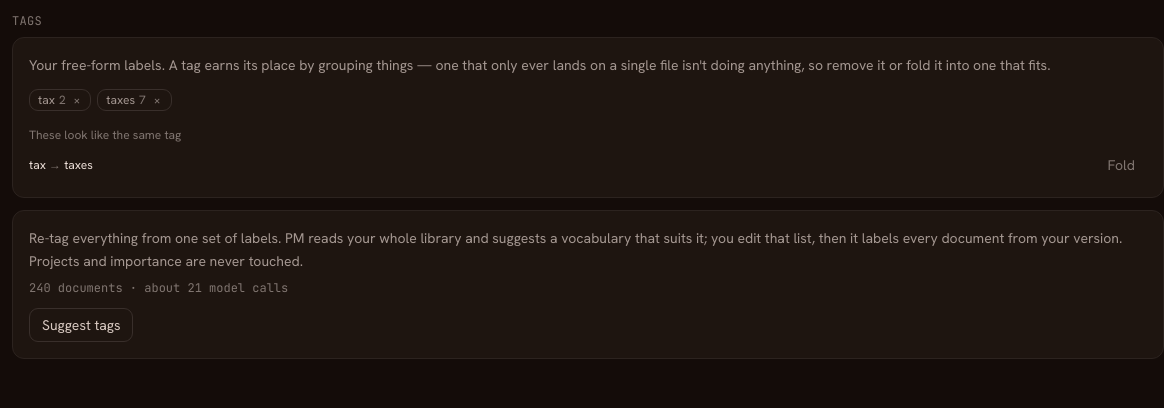
Scenario: the proposals › surfaces a failed pass instead of looking like it worked
The width and height of the screenshot is (1164, 408).
Check: the text "240 documents · about 21 model calls" is shown, box [29,280,288,296]
Click the button "Suggest tags". click: (81,325)
box: [29,308,134,342]
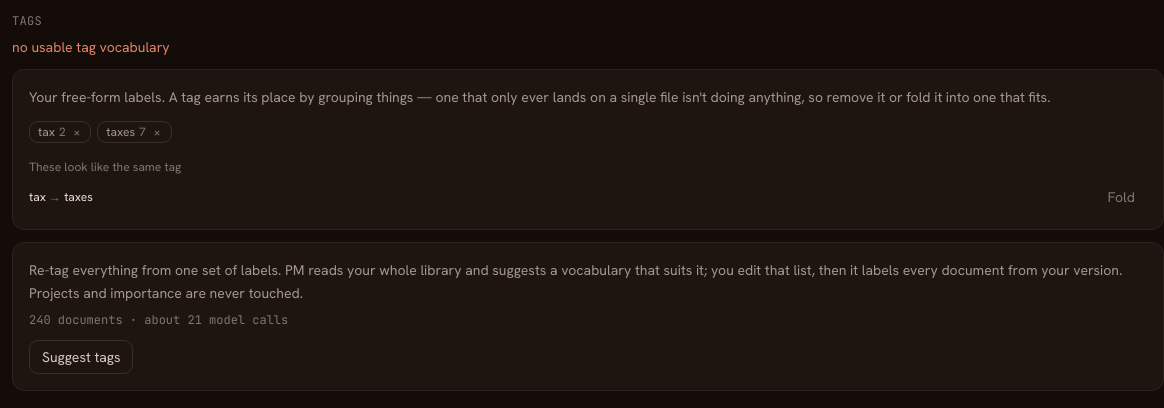
Check: the message shows "vocabulary", box [12,38,170,56]
